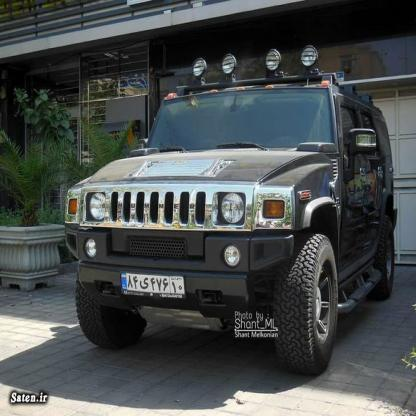licence: (118, 272, 186, 299)
